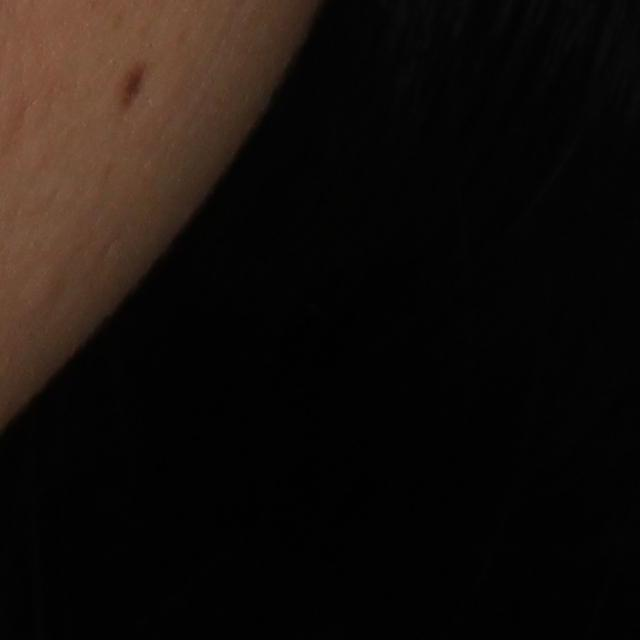nevus: (118, 60, 151, 111)
